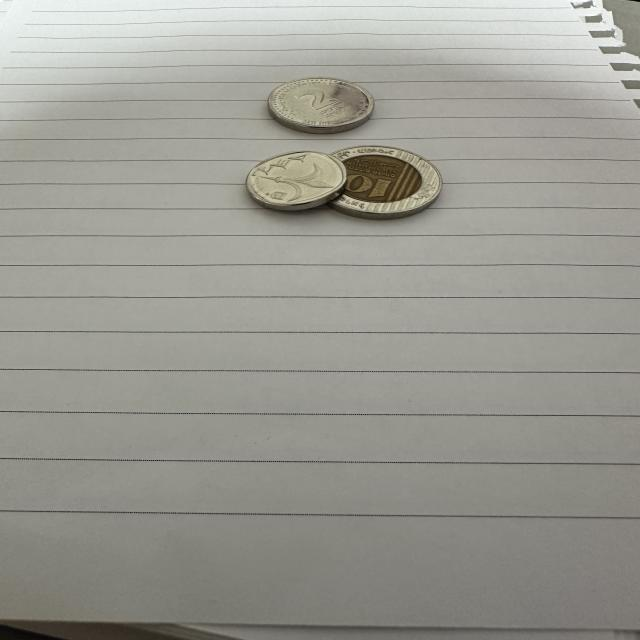1-shekel: (245, 149, 348, 208)
10-shekel: (322, 144, 444, 218)
2-shekel: (267, 77, 376, 133)
